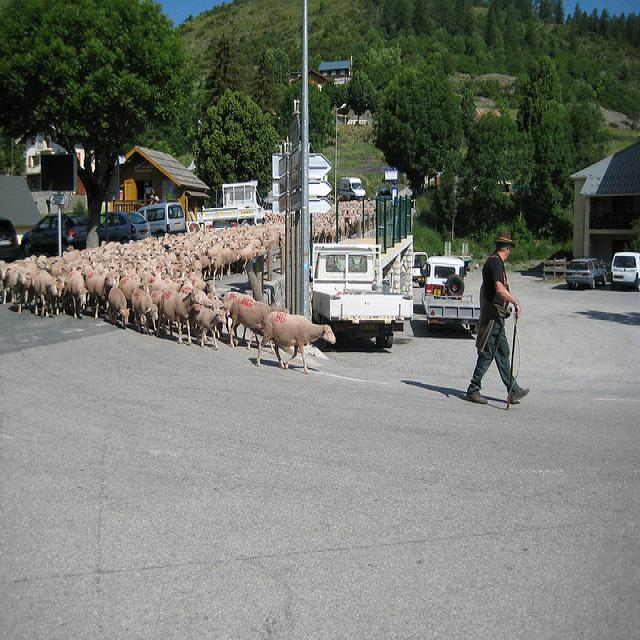Vehicle: (310, 243, 414, 350), (22, 212, 87, 257), (424, 256, 464, 296), (138, 201, 186, 232), (565, 257, 609, 290), (100, 212, 150, 238), (610, 251, 640, 291), (0, 217, 19, 262), (411, 251, 430, 288), (339, 177, 366, 201), (375, 185, 392, 202)
